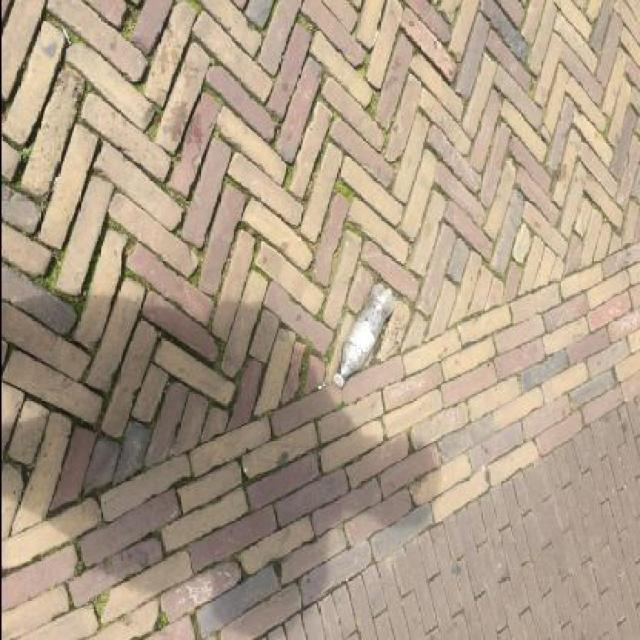plastic: (331, 282, 395, 390)
